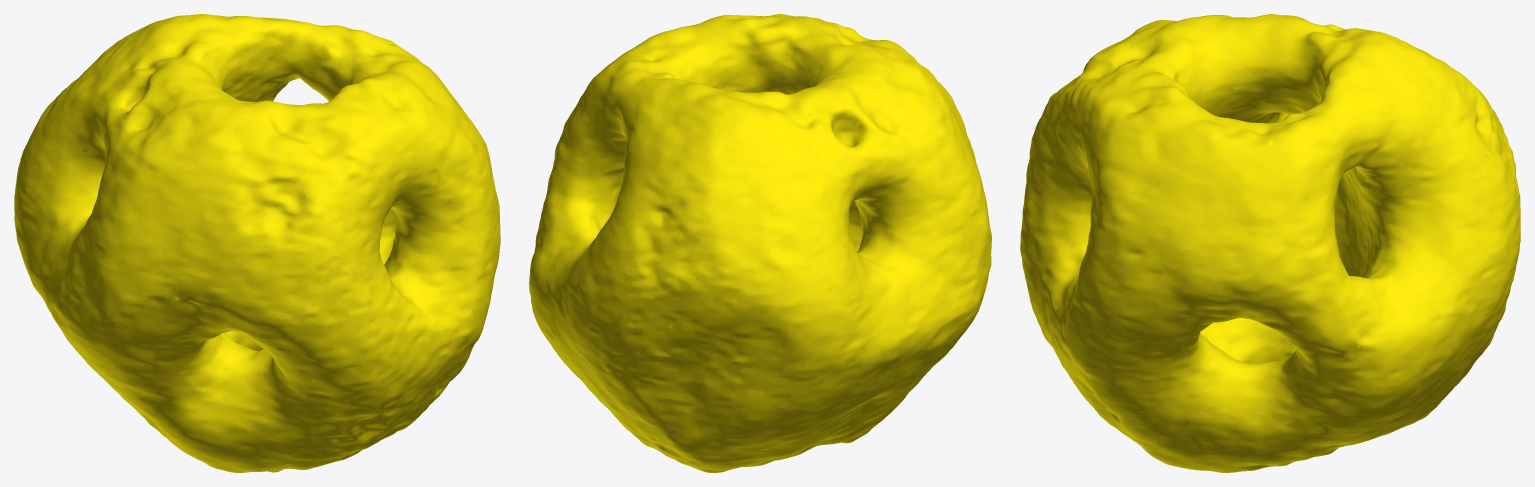
The model's file is cage.glb.
3 renders of one model, left to right at view 1: azimuth 30°, elevation 25°; view 2: azimuth 150°, elevation 25°; view 3: azimuth 270°, elevation 25°, orthographic. The views are drawn at different scales.
Parts seen in each view (by area): view 1: cage; view 2: cage; view 3: cage.
Boxes of the visible parts, x1,y1,x2,y2 form: cage: (14,14,500,472); cage: (529,14,991,472); cage: (1020,14,1520,472).
Bounding box in the file's own units: 202 × 182 × 213.
